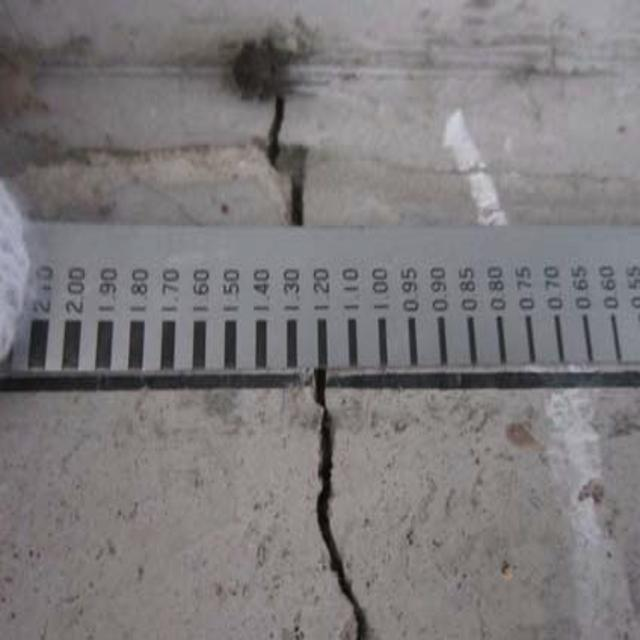crack: (298, 384, 398, 640), (235, 47, 322, 230)
